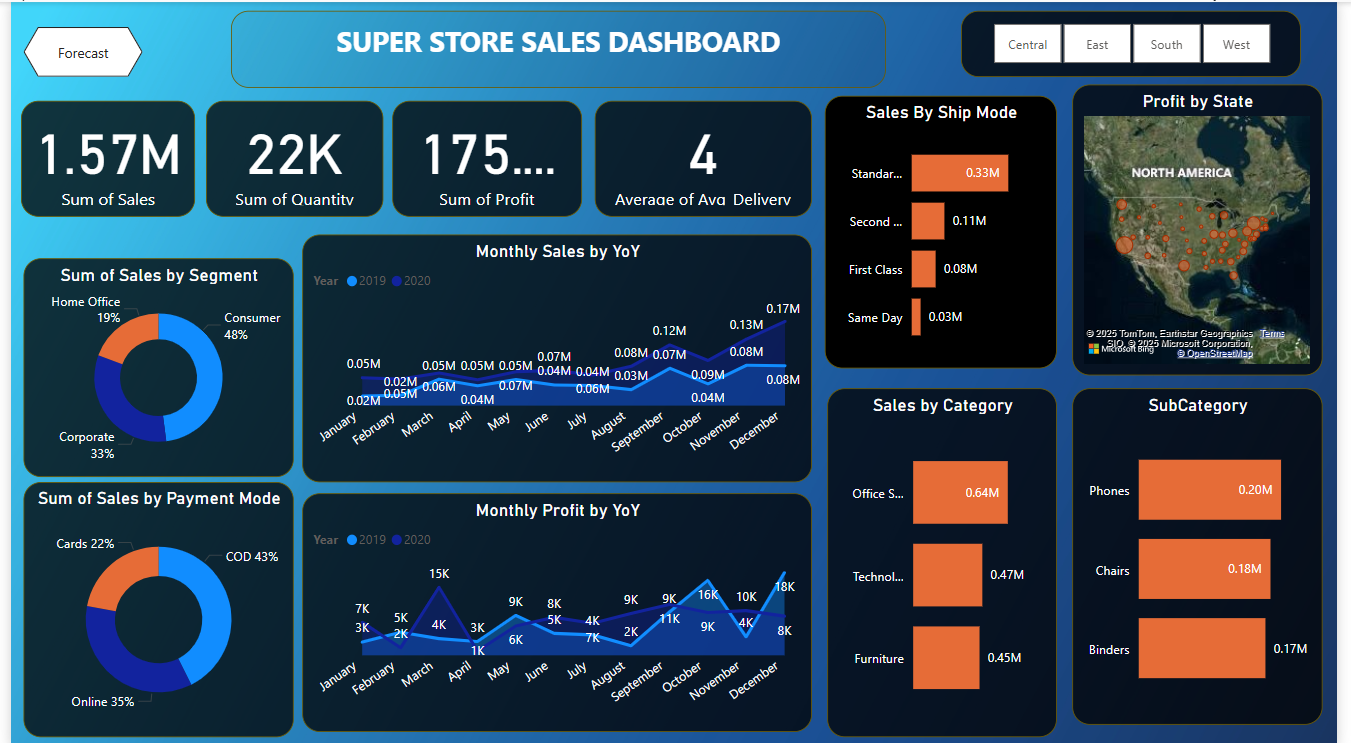

The dashboard page shown, as its layout file describes it:
{"tool":"powerbi","page":{"name":"Home","canvas":[1280,720],"ordinal":0},"visuals":[{"type":"clusteredBarChart","title":" Sales by Category","fields":{"Category":["SuperStore_Sales_Dataset.Category"],"Y":["Sum(SuperStore_Sales_Dataset.Sales)"]},"box":[787.8,372.8,222,336.6],"z":0},{"type":"clusteredBarChart","title":" SubCategory","fields":{"Category":["SuperStore_Sales_Dataset.Sub-Category"],"Y":["Sum(SuperStore_Sales_Dataset.Sales)"]},"box":[1024.3,372.8,241.3,324.5],"z":1000},{"type":"clusteredBarChart","title":" Sales By Ship Mode","fields":{"Category":["SuperStore_Sales_Dataset.Ship Mode"],"Y":["Sum(SuperStore_Sales_Dataset.Sales)"]},"box":[785.4,90.5,224.4,263],"z":2000},{"type":"areaChart","title":"Monthly Sales by YoY","fields":{"Y":["Sum(SuperStore_Sales_Dataset.Sales)"],"Category":["SuperStore_Sales_Dataset.Order Date.Variation.Date Hierarchy.Month","SuperStore_Sales_Dataset.Order Date.Variation.Date Hierarchy.Day"],"Series":["SuperStore_Sales_Dataset.Order Date.Variation.Date Hierarchy.Year"]},"box":[281.1,224.4,492.2,238.9],"z":3000},{"type":"areaChart","title":"Monthly Profit by YoY","fields":{"Category":["SuperStore_Sales_Dataset.Order Date.Variation.Date Hierarchy.Month","SuperStore_Sales_Dataset.Order Date.Variation.Date Hierarchy.Day"],"Series":["SuperStore_Sales_Dataset.Order Date.Variation.Date Hierarchy.Year"],"Y":["Sum(SuperStore_Sales_Dataset.Profit)"]},"box":[281.1,474.1,492.2,230.4],"z":4000},{"type":"map","title":" Profit by State","fields":{"Category":["SuperStore_Sales_Dataset.State"],"Size":["Sum(SuperStore_Sales_Dataset.Sales)"]},"box":[1024.3,79.6,241.3,281.1],"z":5000},{"type":"donutChart","fields":{"Category":["SuperStore_Sales_Dataset.Segment"],"Y":["Sum(SuperStore_Sales_Dataset.Sales)"]},"box":[12.1,247.3,260.6,211.1],"z":6000},{"type":"donutChart","fields":{"Category":["SuperStore_Sales_Dataset.Payment Mode"],"Y":["Sum(SuperStore_Sales_Dataset.Sales)"]},"box":[12.1,463.3,260.6,246.1],"z":7000},{"type":"slicer","fields":{"Values":["SuperStore_Sales_Dataset.Region"]},"box":[916.9,8.4,328.2,63.9],"z":8000},{"type":"card","fields":{"Values":["Sum(SuperStore_Sales_Dataset.Sales)"]},"box":[9.7,95.3,167.7,112.2],"z":10000},{"type":"card","fields":{"Values":["Sum(SuperStore_Sales_Dataset.Quantity)"]},"box":[188.2,95.3,171.3,112.2],"z":11000},{"type":"card","fields":{"Values":["Sum(SuperStore_Sales_Dataset.Profit)"]},"box":[368,95.3,183.4,112.2],"z":12000},{"type":"card","fields":{"Values":["Avg(SuperStore_Sales_Dataset.Avg_Delivery)"]},"box":[563.4,95.3,209.9,112.2],"z":13000},{"type":"pageNavigator","box":[12.1,24.1,115.8,48.3],"z":13001},{"type":"textbox","box":[212.3,8.4,632.2,74.8],"z":13002}]}

Visuals, with their boxes in screenshot pixels (x1, y1, x2, y2), scaled from the page's 1280x720 canvas onto the 1351x743 screenshot:
" Sales by Category" clusteredBarChart: box=[831, 385, 1066, 732]
" SubCategory" clusteredBarChart: box=[1081, 385, 1336, 720]
" Sales By Ship Mode" clusteredBarChart: box=[829, 93, 1066, 365]
"Monthly Sales by YoY" areaChart: box=[297, 232, 816, 478]
"Monthly Profit by YoY" areaChart: box=[297, 489, 816, 727]
" Profit by State" map: box=[1081, 82, 1336, 372]
donutChart - SuperStore_Sales_Dataset.Segment x Sum(SuperStore_Sales_Dataset.Sales): box=[13, 255, 288, 473]
donutChart - SuperStore_Sales_Dataset.Payment Mode x Sum(SuperStore_Sales_Dataset.Sales): box=[13, 478, 288, 732]
slicer - SuperStore_Sales_Dataset.Region: box=[968, 9, 1314, 75]
card - Sum(SuperStore_Sales_Dataset.Sales): box=[10, 98, 187, 214]
card - Sum(SuperStore_Sales_Dataset.Quantity): box=[199, 98, 379, 214]
card - Sum(SuperStore_Sales_Dataset.Profit): box=[388, 98, 582, 214]
card - Avg(SuperStore_Sales_Dataset.Avg_Delivery): box=[595, 98, 816, 214]
pageNavigator: box=[13, 25, 135, 75]
textbox: box=[224, 9, 891, 86]
